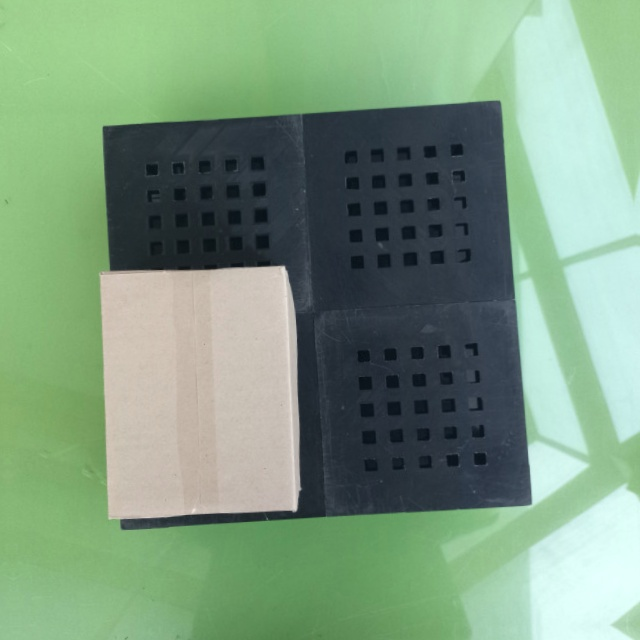box: (97, 263, 298, 526)
pallet: (88, 89, 545, 543)
